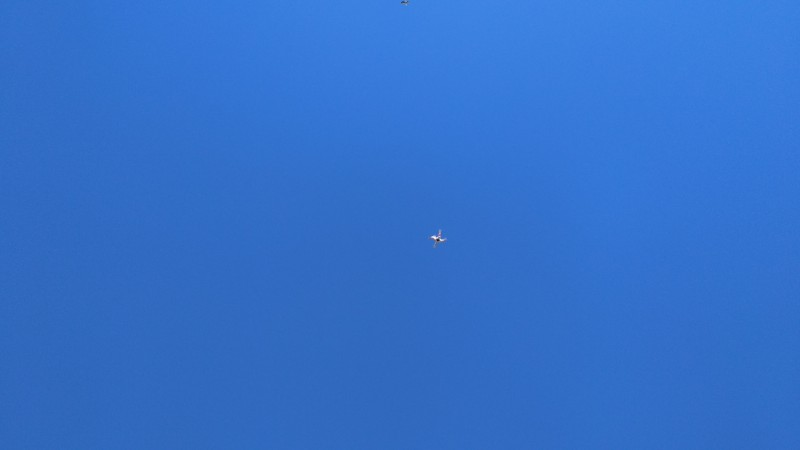drone: (428, 229, 448, 248)
